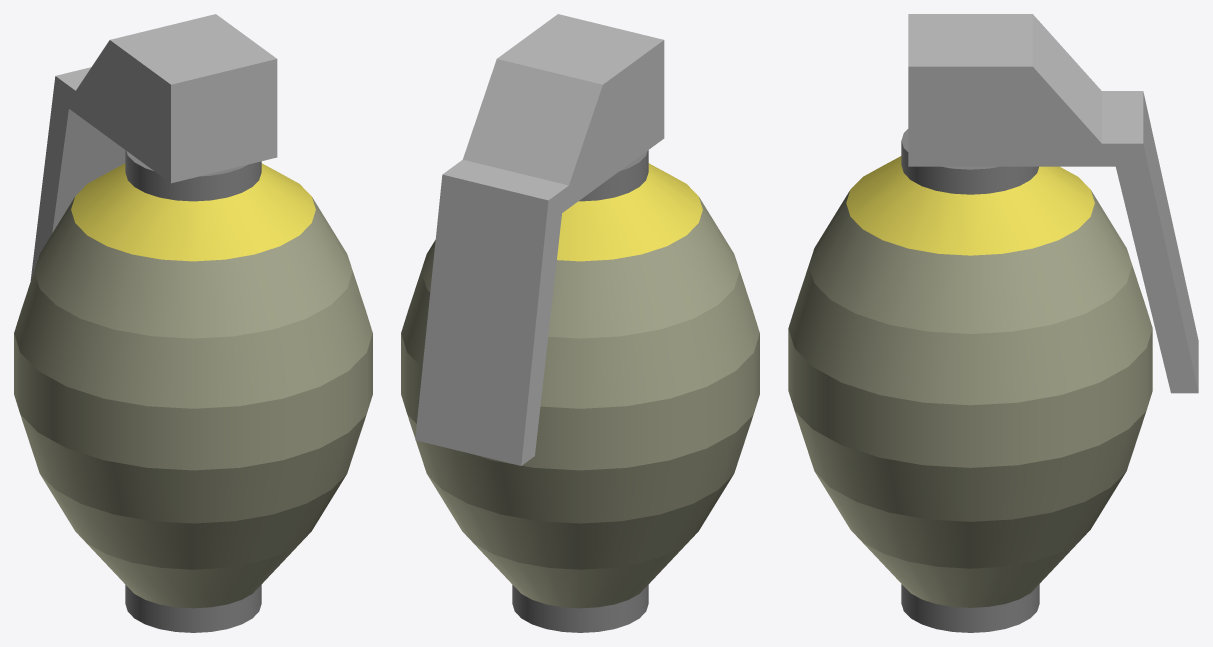
The model's file is grenade.glb.
3 views of the same model, side by side, from view 1: azimuth 30°, elevation 25°; view 2: azimuth 150°, elevation 25°; view 3: azimuth 270°, elevation 25° (orthographic).
Parts seen in each view (by area): view 1: Mesh1 Group2 Group1 Model, Mesh2 Group3 Group1 Model; view 2: Mesh1 Group2 Group1 Model, Mesh2 Group3 Group1 Model; view 3: Mesh1 Group2 Group1 Model, Mesh2 Group3 Group1 Model.
Part boxes in pixels (bbox=[...]): Mesh1 Group2 Group1 Model: bbox=[14, 150, 372, 632]; Mesh2 Group3 Group1 Model: bbox=[30, 14, 277, 280]; Mesh1 Group2 Group1 Model: bbox=[401, 150, 759, 632]; Mesh2 Group3 Group1 Model: bbox=[415, 14, 664, 465]; Mesh1 Group2 Group1 Model: bbox=[788, 129, 1152, 632]; Mesh2 Group3 Group1 Model: bbox=[908, 14, 1198, 393].
Bounding box in the file's own units: 0.0158 × 0.027 × 0.0178.
